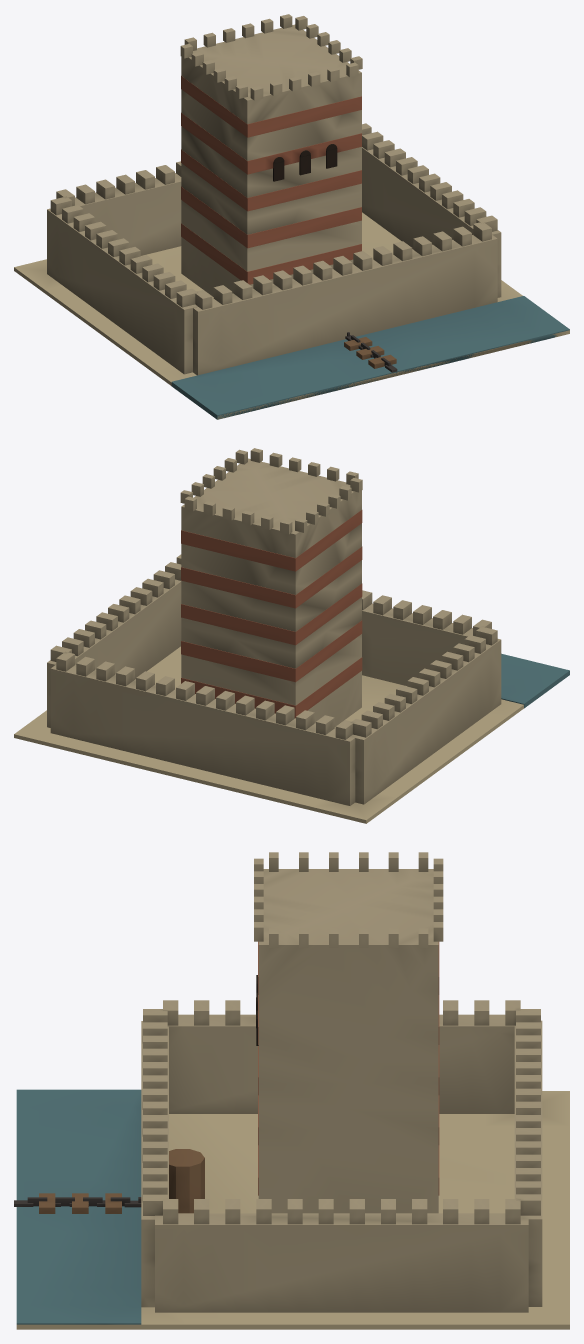
Rendered from kastellion.glb.
The picture shows the model from 3 angles, top to bottom: view 1: azimuth 30°, elevation 25°; view 2: azimuth 150°, elevation 25°; view 3: azimuth 270°, elevation 25°; orthographic projection. The views are drawn at different scales.
Parts seen in each view (by area): view 1: p0_bailey, p1_keep, p2_chain; view 2: p0_bailey, p1_keep; view 3: p0_bailey, p1_keep, p2_chain.
Boxes of the visible parts, x1,y1,x2,y2 form: p0_bailey: (14,123,569,419); p1_keep: (180,14,362,296); p2_chain: (344,332,397,372); p0_bailey: (14,554,569,823); p1_keep: (180,448,362,726); p0_bailey: (16,1000,569,1329); p1_keep: (254,852,443,1213); p2_chain: (14,1149,204,1213).
Bounding box in the file's own units: 40.02 × 25.5 × 40.2.
